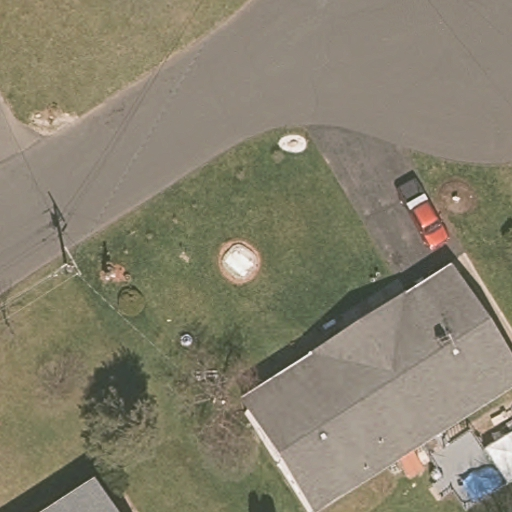DT: (63, 244, 83, 278)
